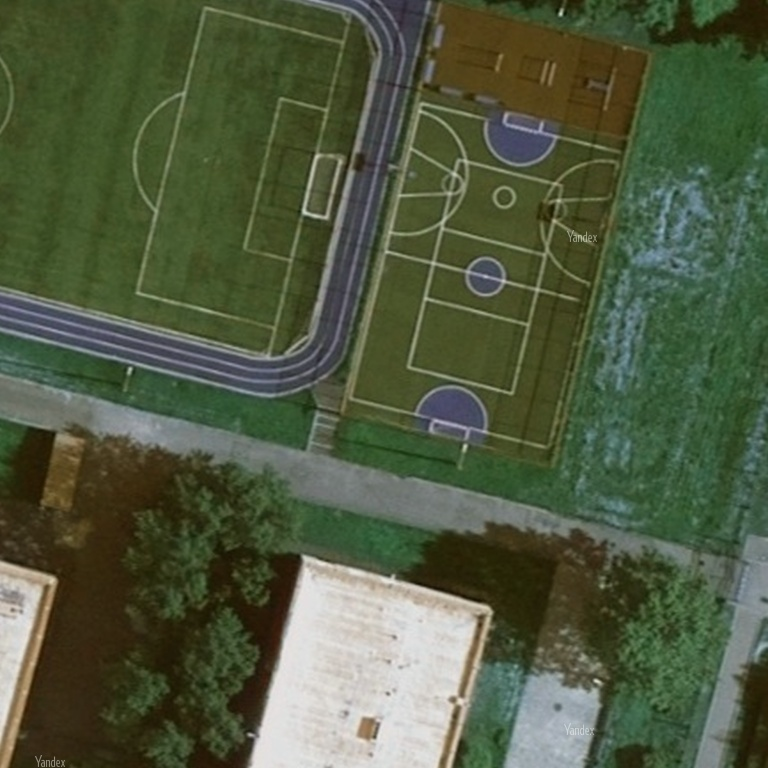basket_court: (372, 96, 642, 312)
